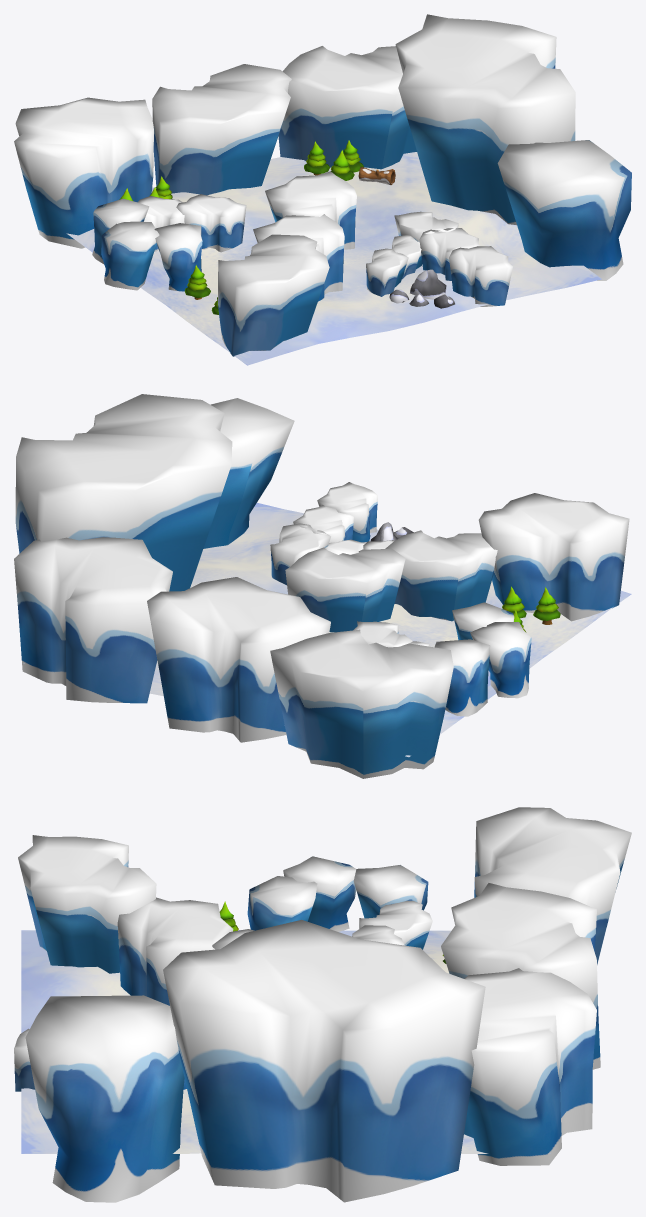
The model's file is IceBigMap2.FBX.
3 views of the same model, one above another, from view 1: azimuth 30°, elevation 25°; view 2: azimuth 150°, elevation 25°; view 3: azimuth 270°, elevation 25° (orthographic). The views are drawn at different scales.
Parts seen in each view (by area): view 1: Iceberg017, tereno1, Iceberg009, Iceberg010, Iceberg014, Iceberg011, Iceberg018, Iceberg020, Iceberg032, Iceberg023, Iceberg019, Iceberg034 (+11 smaller); view 2: Iceberg017, Iceberg011, Iceberg009, Iceberg010, Iceberg018, tereno1, Iceberg020, Iceberg019, Iceberg014, Iceberg032, Iceberg030, Iceberg023 (+5 smaller); view 3: Iceberg017, Iceberg014, Iceberg011, Iceberg018, Iceberg010, Iceberg009, tereno1, Iceberg019, Iceberg032, Iceberg031, Iceberg030, Iceberg033 (+2 smaller).
Part boxes in pixels (box(x1,y1,x2,y2)): Iceberg017: box(395, 14, 575, 225); tereno1: box(66, 152, 601, 365); Iceberg009: box(14, 97, 153, 248); Iceberg010: box(152, 64, 291, 195); Iceberg014: box(497, 140, 631, 280); Iceberg011: box(278, 46, 416, 169); Iceberg018: box(218, 234, 329, 356); Iceberg020: box(265, 171, 356, 249); Iceberg032: box(101, 221, 159, 290); Iceberg023: box(449, 246, 512, 306); Iceberg019: box(253, 214, 344, 301); Iceberg034: box(176, 194, 246, 252); Iceberg017: box(15, 394, 232, 591); Iceberg011: box(14, 537, 172, 703); Iceberg009: box(270, 629, 453, 778); Iceberg010: box(147, 577, 330, 742); Iceberg018: box(478, 493, 629, 621); tereno1: box(23, 503, 631, 757); Iceberg020: box(285, 547, 405, 632); Iceberg019: box(385, 530, 497, 621); Iceberg014: box(203, 398, 294, 548); Iceberg032: box(470, 622, 531, 698); Iceberg030: box(434, 639, 490, 716); Iceberg023: box(317, 482, 377, 542); Iceberg017: box(163, 919, 485, 1202); Iceberg014: box(25, 995, 184, 1202); Iceberg011: box(464, 968, 596, 1165); Iceberg018: box(18, 835, 156, 973); Iceberg010: box(441, 883, 600, 1069); Iceberg009: box(474, 807, 631, 964); tereno1: box(21, 930, 550, 1153); Iceberg019: box(117, 897, 233, 1005); Iceberg032: box(283, 856, 356, 931); Iceberg031: box(247, 876, 317, 930); Iceberg030: box(353, 865, 428, 918); Iceberg033: box(359, 900, 432, 949).
Bounding box in the file's own units: 654 × 202 × 584.
